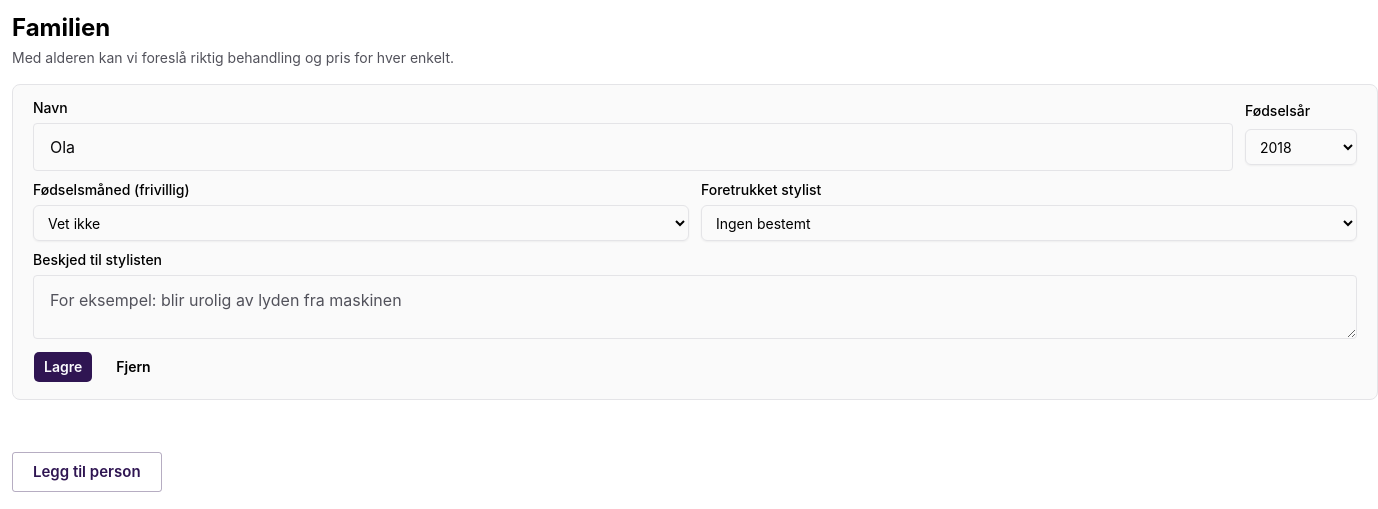
Test case: FamilyEditor › renames a child IN PLACE, by id, with the details
Replace the text in the field labelled "Navn" with " Ola Emil ": (633, 147) [33,123,1233,171]
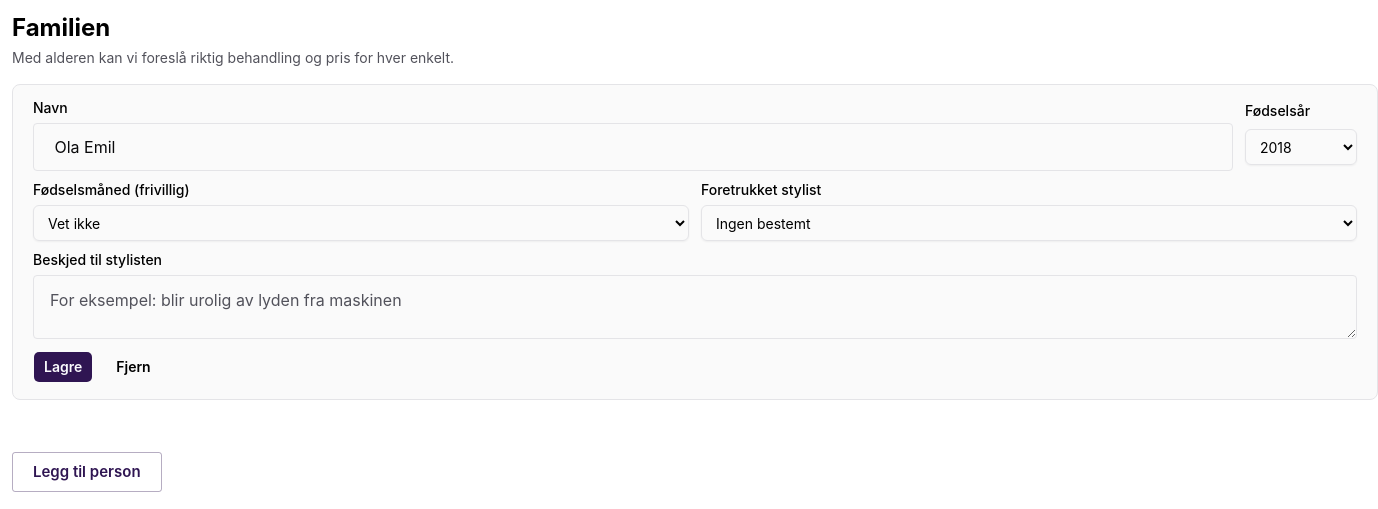
Select "april" in the dropdown labelled "Fødselsmåned (frivillig)": (361, 223) [33,205,689,241]
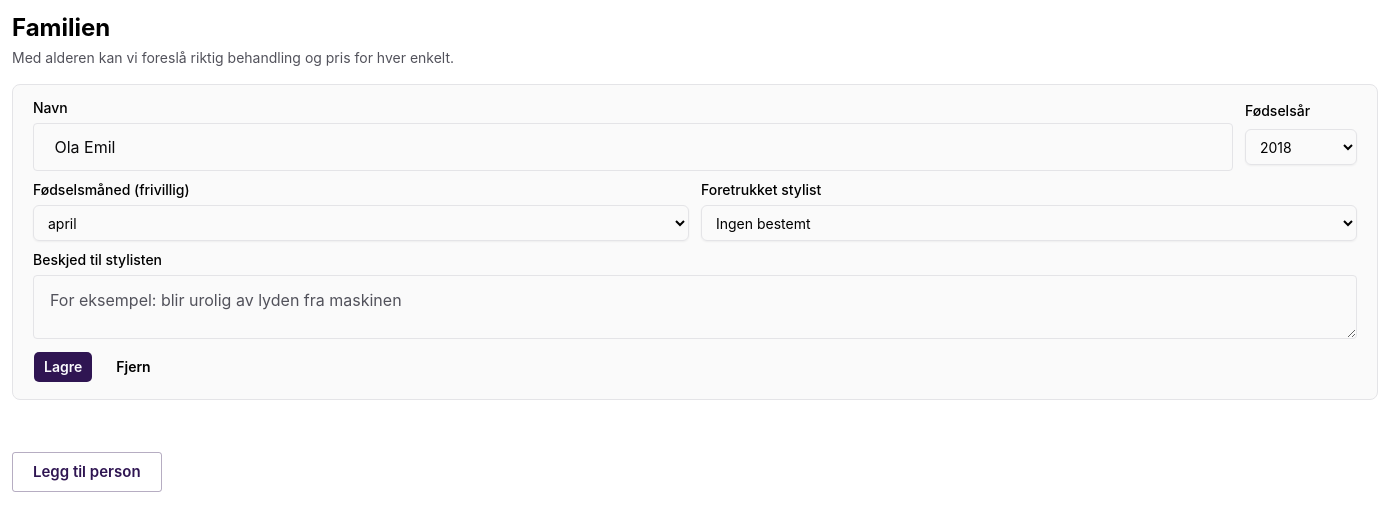
Select "Anna" in the dropdown labelled "Foretrukket stylist": (1029, 223) [701,205,1357,241]
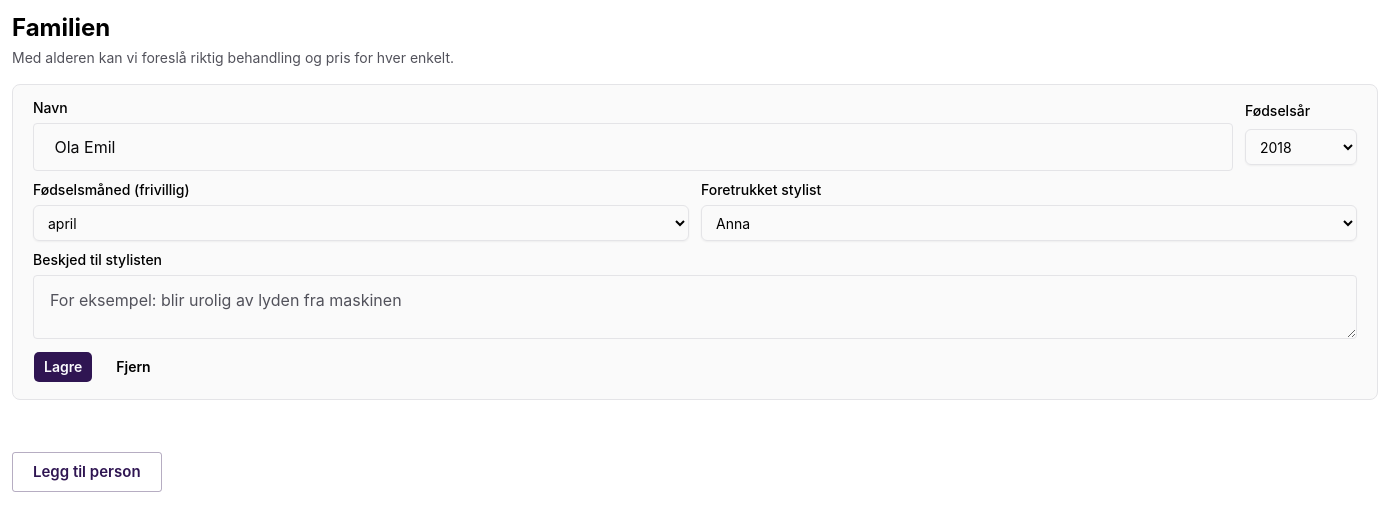
Click the button "Lagre": (63, 367) [33,351,93,383]
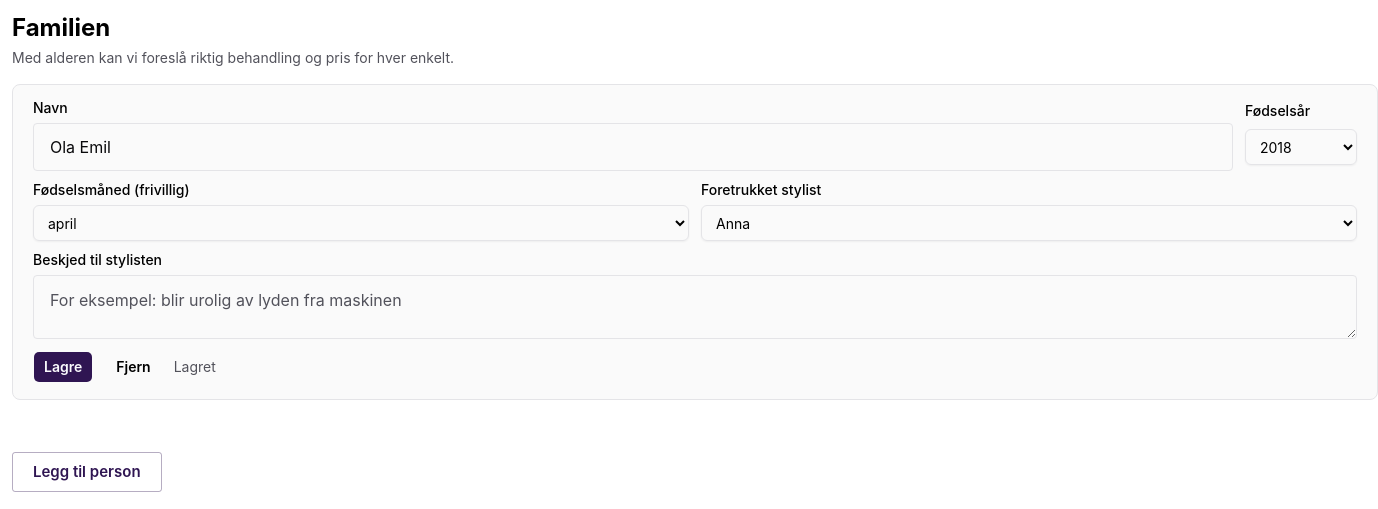
Check: the text "Lagret" is shown, box [174,358,216,375]
